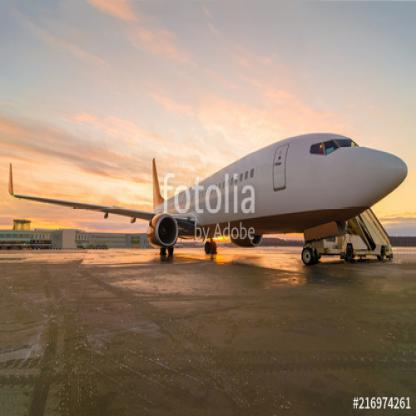CIV_Plane: (2, 124, 411, 260)
